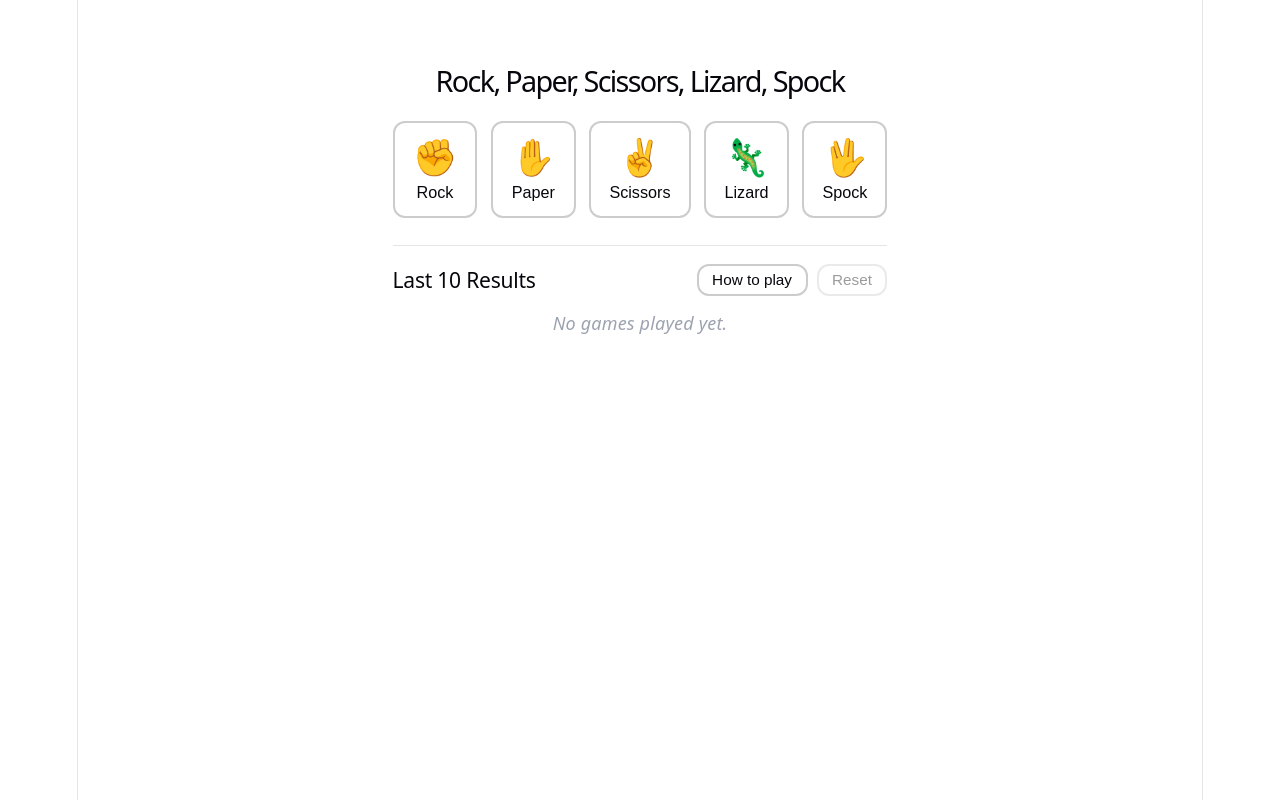
App — playing a round › adds the result to the scoreboard
Step 1. Click the text "paper" → click(533, 193), box x1=512 y1=183 x2=555 y2=202
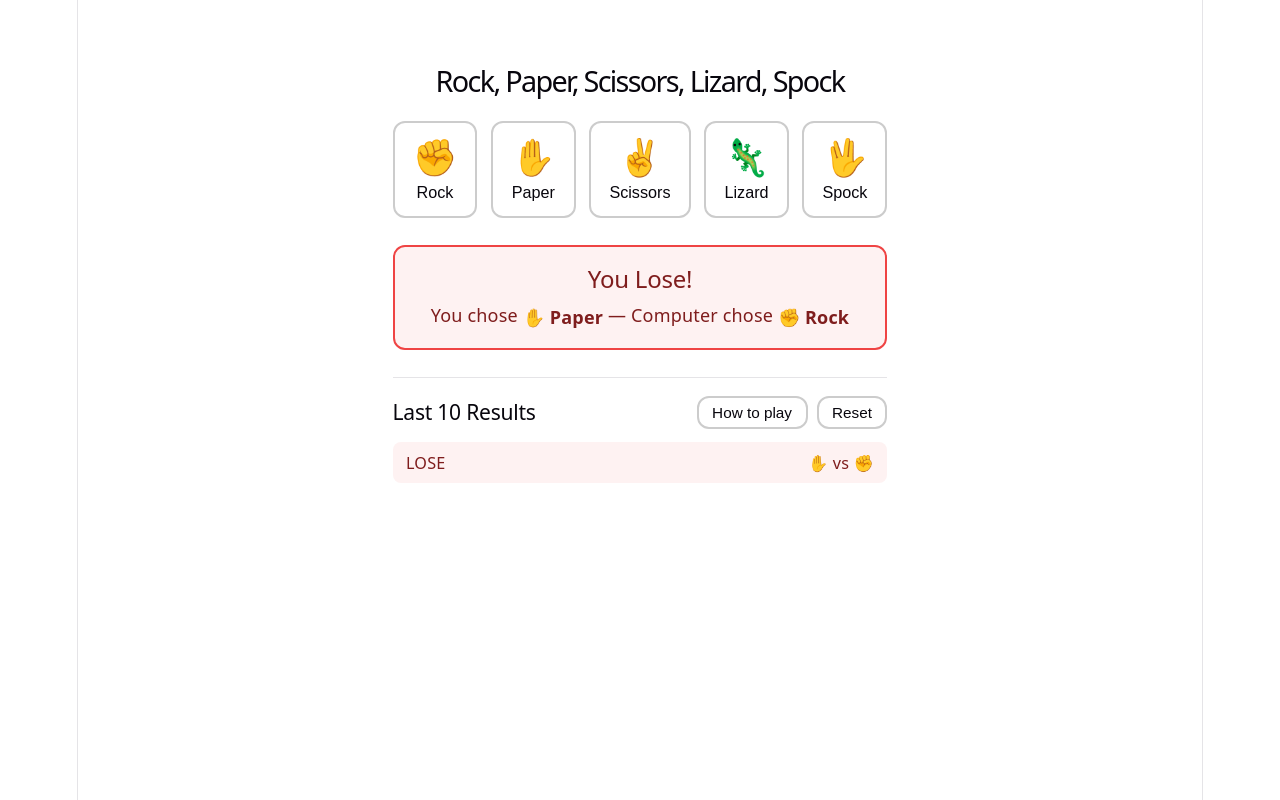
Check: the text "LOSE" is shown, box x1=406 y1=450 x2=445 y2=476
